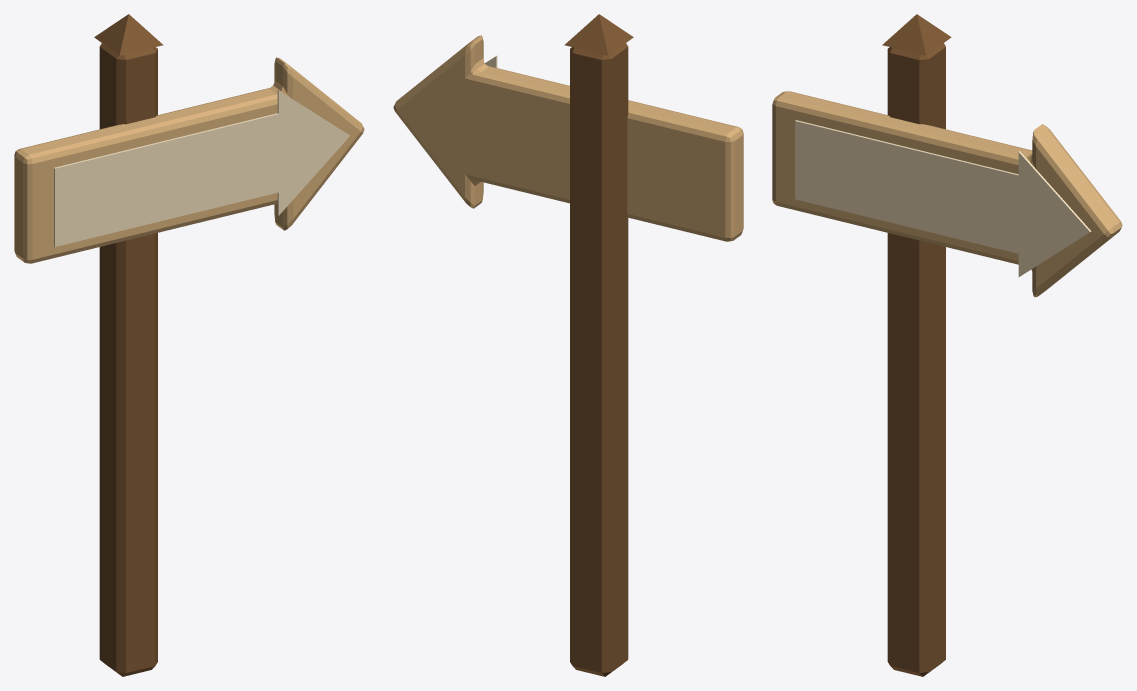
File: placa-seta.glb
3 views of the same model, side by side, from view 1: azimuth 30°, elevation 25°; view 2: azimuth 150°, elevation 25°; view 3: azimuth 330°, elevation 25° (orthographic).
Visible parts, largest first — view 1: placa, texto; view 2: placa; view 3: placa, texto.
Part boxes in pixels (x1=…): placa: x1=14, y1=14, x2=364, y2=676; texto: x1=54, y1=90, x2=349, y2=246; placa: x1=393, y1=14, x2=743, y2=676; placa: x1=772, y1=14, x2=1122, y2=676; texto: x1=795, y1=120, x2=1091, y2=276.
Bounding box in the file's own units: 0.655 × 1.2 × 0.1224.
